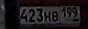license-plateSW: (19, 6, 81, 24)
